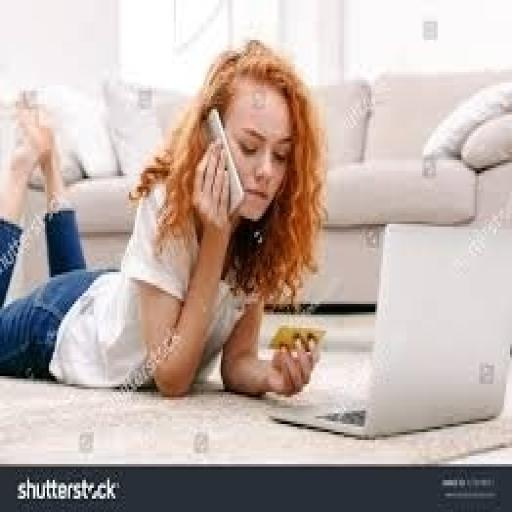using_laptop: (262, 216, 510, 440)
